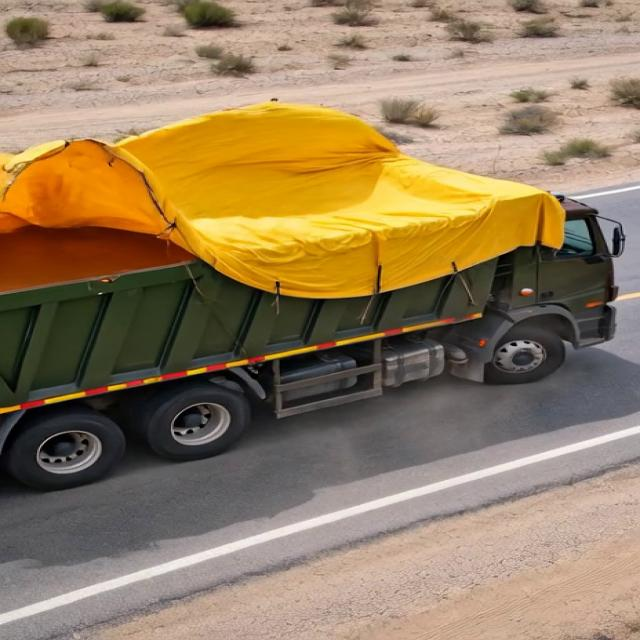trailer: (5, 114, 566, 265)
truck: (0, 105, 624, 489)
